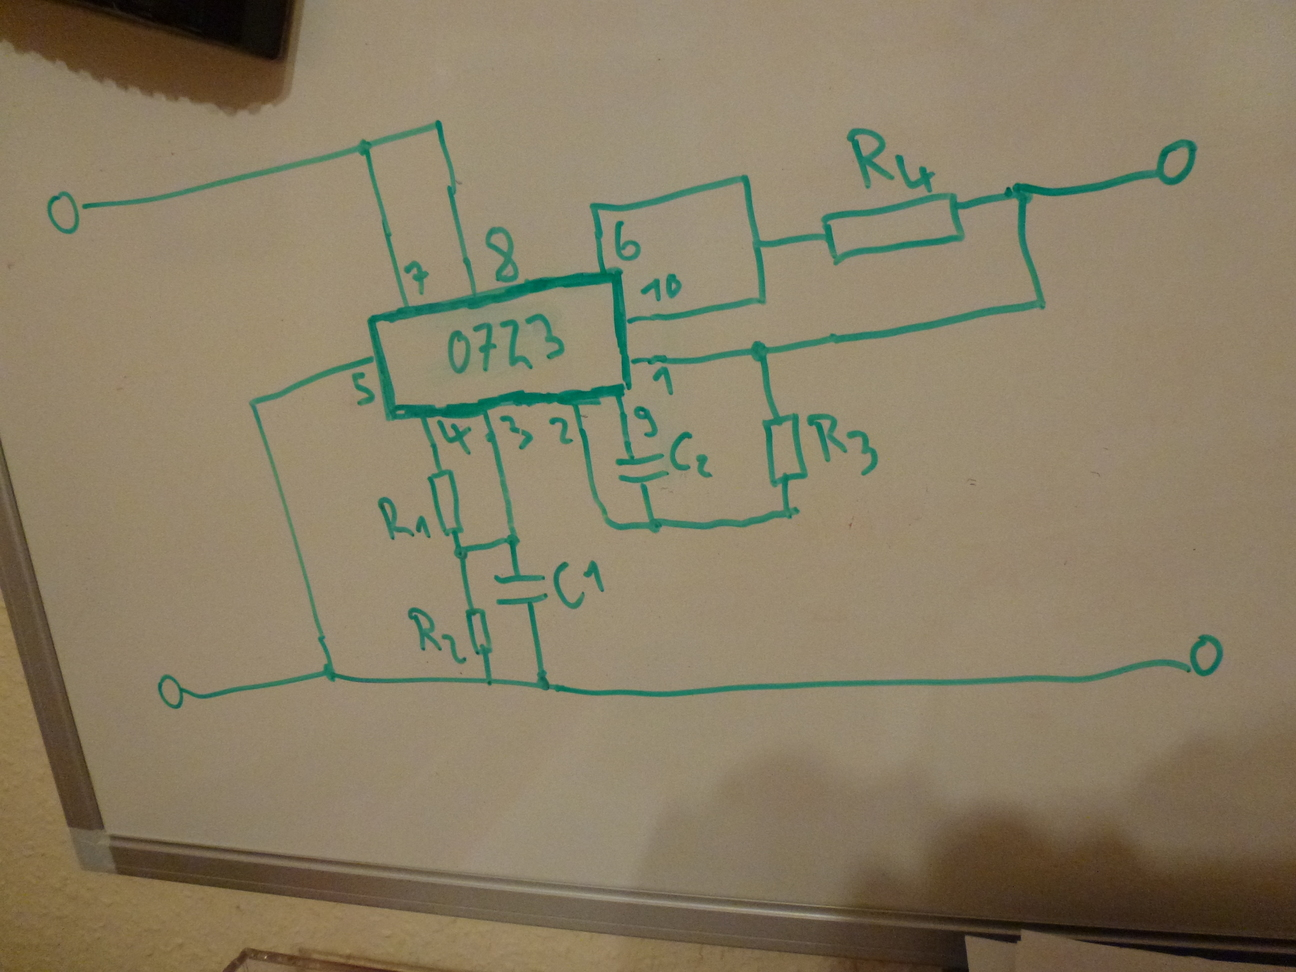capacitor.unpolarized: (490, 566, 551, 610), (614, 448, 670, 490)
integrated_circuit: (368, 266, 634, 421)
junction: (1002, 176, 1040, 207), (1025, 287, 1052, 315), (747, 339, 775, 364), (318, 658, 343, 686), (593, 511, 618, 536), (351, 134, 376, 160), (639, 513, 666, 536), (530, 670, 555, 694), (776, 500, 803, 523), (447, 542, 473, 563), (500, 528, 524, 549), (427, 113, 448, 135), (736, 168, 756, 190), (581, 198, 604, 215), (751, 291, 772, 309), (746, 233, 766, 251), (481, 673, 500, 690), (245, 393, 261, 409)
resistor: (815, 192, 970, 269), (759, 409, 806, 491), (425, 463, 468, 539), (462, 604, 498, 659)
terminal: (1177, 628, 1233, 685), (1152, 133, 1206, 192), (44, 188, 88, 240), (152, 670, 193, 715)
text: (444, 310, 571, 377), (846, 120, 942, 193), (804, 408, 879, 479), (405, 604, 466, 667), (551, 557, 612, 614), (369, 491, 431, 545), (668, 425, 721, 481), (482, 223, 522, 284), (611, 217, 649, 264), (640, 269, 684, 307), (436, 419, 477, 457), (497, 414, 537, 452), (348, 370, 376, 411), (402, 258, 432, 296), (542, 414, 576, 446), (633, 404, 663, 440), (647, 364, 677, 398)
